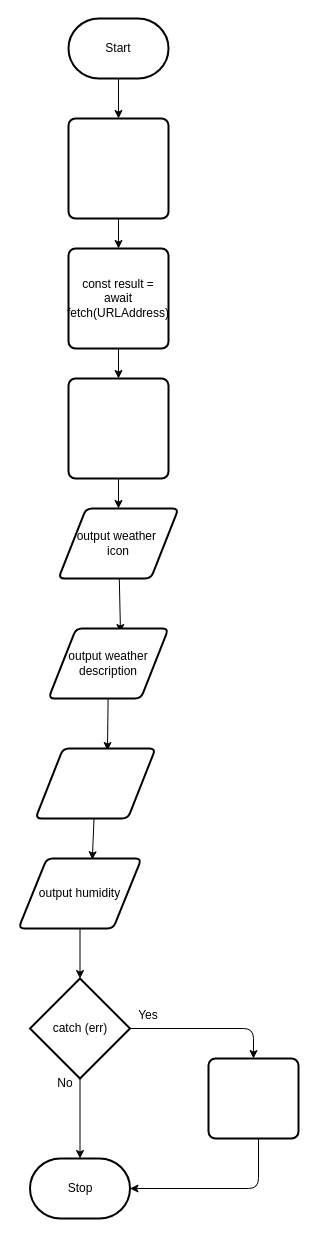
The diagram is 316 pixels wide and 1236 high, and some of its shapes have lost their labels. The centre of each missing label's shape, as x and y in pixels:
console.log(err): (253,1098)
const getWeather = async (URLAddress) =>: (118,168)
const jsonData = await result.json(): (118,428)
output temperature: (95,783)
